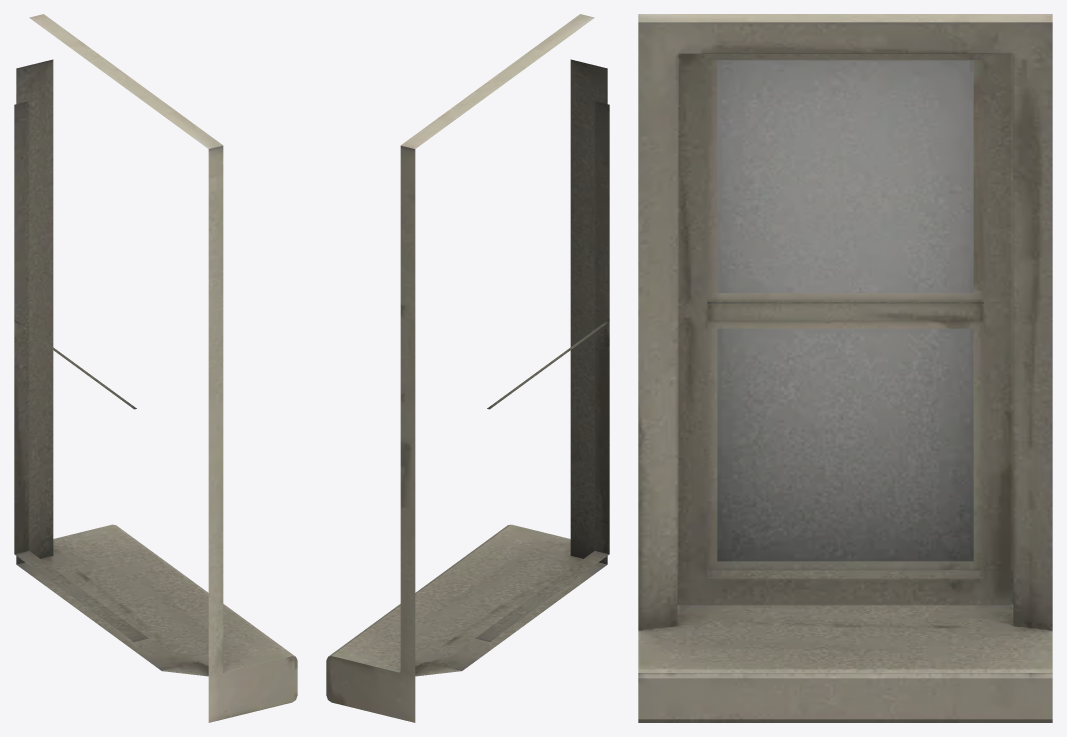
3 views of the same model, side by side, from view 1: azimuth 30°, elevation 25°; view 2: azimuth 150°, elevation 25°; view 3: azimuth 270°, elevation 25° (orthographic). The views are drawn at different scales.
Visible parts, largest first — view 1: body0_model0_lod0_mesh0; view 2: body0_model0_lod0_mesh0; view 3: body0_model0_lod0_mesh0.
Boxes of the visible parts, left/top/right/bottom form: body0_model0_lod0_mesh0: left=14, top=14, right=297, bottom=722; body0_model0_lod0_mesh0: left=326, top=14, right=609, bottom=722; body0_model0_lod0_mesh0: left=638, top=14, right=1052, bottom=722.
Size of the model in its own units: 13.5 by 55.5 by 31.5.
Materials: 1 (1 with a texture image).
